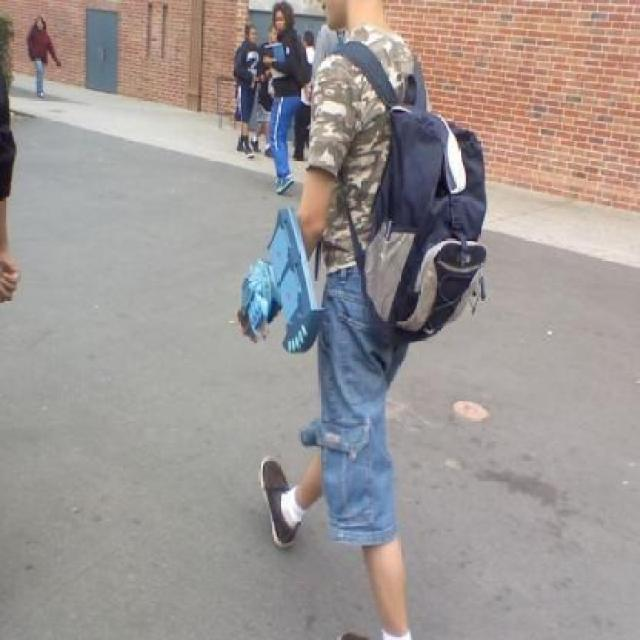backpack: (358, 102, 492, 346)
